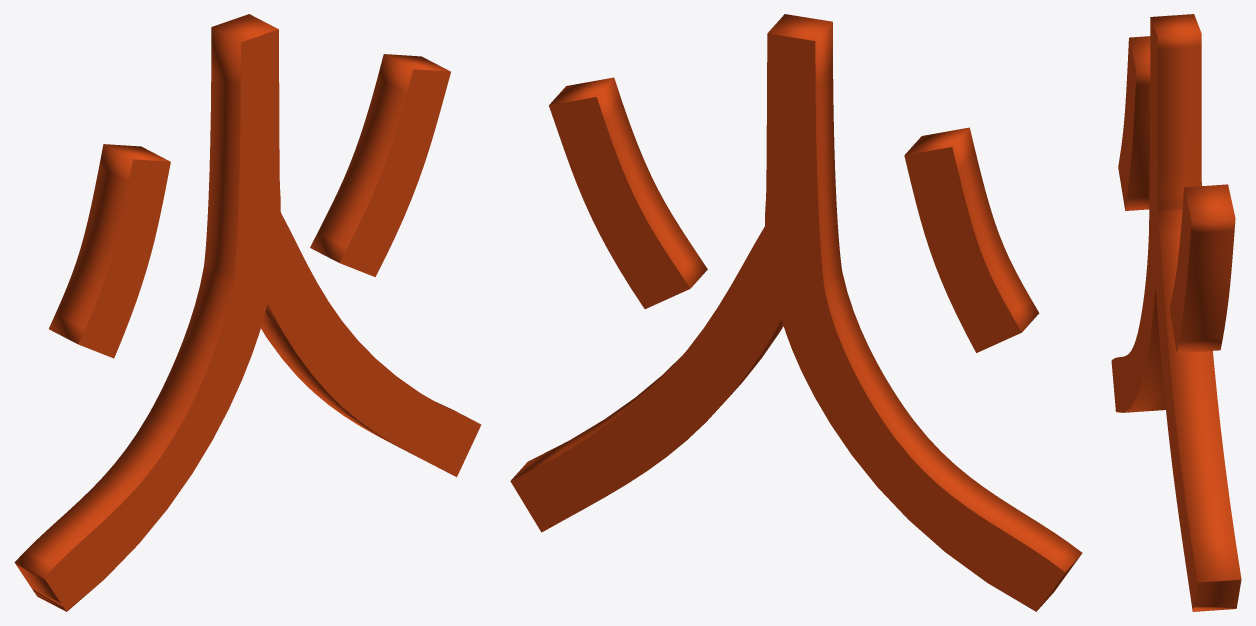
The model's file is fire_symbole.fbx.
3 renders of one model, left to right at view 1: azimuth 30°, elevation 25°; view 2: azimuth 150°, elevation 25°; view 3: azimuth 270°, elevation 25°, orthographic. The views are drawn at different scales.
Visible parts, largest first — view 1: Curve.001; view 2: Curve.001; view 3: Curve.001.
Boxes of the visible parts, x1,y1,x2,y2 form: Curve.001: (14, 14, 481, 611); Curve.001: (510, 14, 1082, 611); Curve.001: (1111, 14, 1241, 611).
Bounding box in the file's own units: 77.27 × 76.9 × 18.71.
